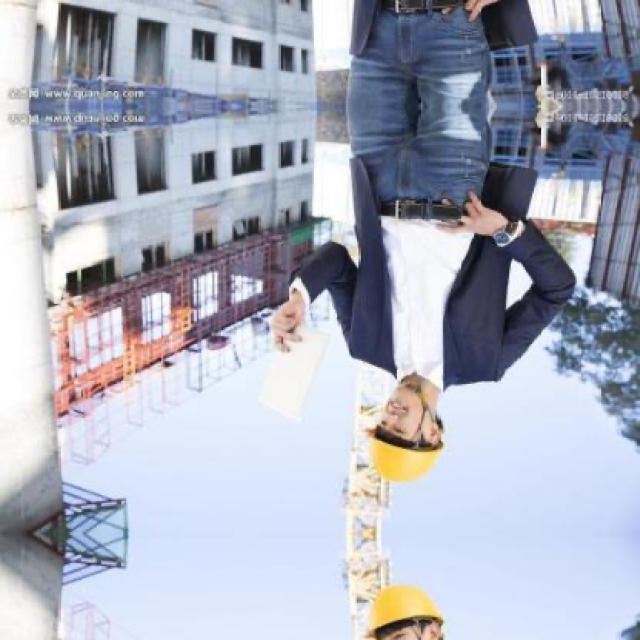con casco: (349, 386, 475, 476)
